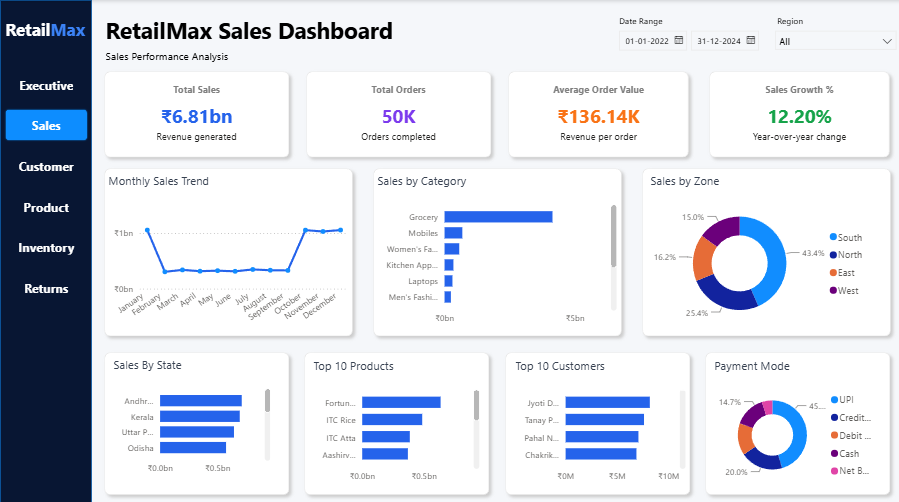

What the dashboard file says about the page in this screenshot:
{"tool":"powerbi","page":{"name":"Sales Dashboard","canvas":[1280,720],"ordinal":1},"visuals":[{"type":"shape","box":[0,0,130,720],"z":0,"group":"g12"},{"type":"shape","box":[139,92,280,140],"z":0,"group":"g1"},{"type":"shape","box":[425,92,280,140],"z":0,"group":"g2"},{"type":"shape","box":[711,92,273.4,140],"z":0,"group":"g3"},{"type":"shape","box":[997,92,273.4,140],"z":0,"group":"g4"},{"type":"textbox","box":[160,176,144,64],"z":0},{"type":"shape","box":[139,230,370,256],"z":0,"group":"g5"},{"type":"shape","box":[520.5,230,370,256],"z":0,"group":"g6"},{"type":"shape","box":[902,230,370,256],"z":0,"group":"g7"},{"type":"shape","box":[423,491,280,220],"z":0,"group":"g10"},{"type":"shape","box":[707,491,280,220],"z":0,"group":"g9"},{"type":"shape","box":[991,491,280,220],"z":0,"group":"g8"},{"type":"textbox","box":[144,16,544,64],"z":1000},{"type":"cardVisual","title":"sales","fields":{"Data":["Measure.Total Revenue"]},"box":[159,127,240,70],"z":1000,"group":"g1"},{"type":"cardVisual","title":"sales","fields":{"Data":["Measure.Total Orders"]},"box":[445,127,240,70],"z":1000,"group":"g2"},{"type":"cardVisual","title":"sales","fields":{"Data":["Measure.Average Order Value"]},"box":[730.5,127,234.4,70],"z":1000,"group":"g3"},{"type":"cardVisual","title":"sales","fields":{"Data":["Measure.Profit Margin %"]},"box":[1016.5,127,234.4,70],"z":1000,"group":"g4"},{"type":"lineChart","title":"Monthly Sales Trend","fields":{"Category":["dim_date.month_name"],"Y":["Measure.Total Revenue"]},"box":[149.6,246,348.9,224],"z":1000,"group":"g5"},{"type":"clusteredBarChart","title":"Sales by Category","fields":{"Category":["dim_category.category_name"],"Y":["Measure.Total Revenue"]},"box":[531.1,246,348.9,224],"z":1000,"group":"g6"},{"type":"barChart","title":"Top 10 Products","fields":{"Category":["dim_product.product_name"],"Y":["Measure.Total Revenue"]},"box":[440.5,507.9,245,186.2],"z":1000,"group":"g10"},{"type":"barChart","title":"Top 10 Customers","fields":{"Y":["Measure.Total Revenue"],"Category":["dim_customer.Customer Name"]},"box":[724.9,507.9,250.9,186.2],"z":1000,"group":"g9"},{"type":"donutChart","title":"Payment Mode","fields":{"Y":["Measure.Total Revenue"],"Category":["fact_sales.payment_mode"]},"box":[1008.5,507.9,245,186.2],"z":1000,"group":"g8"},{"type":"textbox","box":[144,64,288,80],"z":2000},{"type":"textbox","box":[159,112.8,240,35],"z":2000,"group":"g1"},{"type":"textbox","box":[445,112.8,240,35],"z":2000,"group":"g2"},{"type":"textbox","box":[730.5,112.8,234.4,35],"z":2000,"group":"g3"},{"type":"textbox","box":[1016.5,112.8,234.4,35],"z":2000,"group":"g4"},{"type":"slicer","fields":{"Values":["dim_date.full_date"]},"box":[864,15,224,96],"z":3000},{"type":"textbox","box":[159,179.5,240,35],"z":3000,"group":"g1"},{"type":"textbox","box":[445,179.5,240,35],"z":3000,"group":"g2"},{"type":"textbox","box":[730.5,179.5,234.4,35],"z":3000,"group":"g3"},{"type":"textbox","box":[1016.5,179.5,234.4,35],"z":3000,"group":"g4"},{"type":"slicer","fields":{"Values":["dim_region.region_name"]},"box":[1088,15,192,80],"z":4000},{"type":"group","id":"g1","title":"Group 2","box":[139,92,280,140],"z":5000},{"type":"group","id":"g2","title":"Group 2","box":[425,92,280,140],"z":6000},{"type":"group","id":"g3","title":"Group 2","box":[711,92,280,144],"z":7000},{"type":"group","id":"g4","title":"Group 2","box":[997,92,280,144],"z":8000},{"type":"group","id":"g5","title":"Group 1","box":[139,230,370,256],"z":9000},{"type":"group","id":"g6","title":"Group 3","box":[520.5,230,370,256],"z":10000},{"type":"group","id":"g7","title":"Group 4","box":[902,230,370,256],"z":11000},{"type":"group","id":"g8","title":"Group 5","box":[991,491,280,220],"z":12000},{"type":"group","id":"g9","title":"Group 6","box":[707,491,280,220],"z":13000},{"type":"group","id":"g10","title":"Group 7","box":[423,491,280,220],"z":14000},{"type":"group","id":"g11","title":"Group 8","box":[139,491,280,220],"z":15000},{"type":"group","id":"g12","title":"Group 2","box":[0,0,130,720],"z":16000},{"type":"actionButton","box":[5,96,120,48],"z":18000,"group":"g12"},{"type":"textbox","box":[0,20,128,48],"z":19000,"group":"g12"},{"type":"actionButton","box":[5,153.6,120,48],"z":20000,"group":"g12"},{"type":"actionButton","box":[5,211.2,120,48],"z":21000,"group":"g12"},{"type":"actionButton","box":[5,268.8,120,48],"z":22000,"group":"g12"},{"type":"actionButton","box":[5,326.4,120,48],"z":23000,"group":"g12"},{"type":"actionButton","box":[5,384,120,48],"z":24000,"group":"g12"},{"type":"shape","box":[139,491,280,220],"z":25013,"group":"g11"},{"type":"donutChart","title":"Sales by Zone","fields":{"Y":["Measure.Total Revenue"],"Category":["dim_region.zone_name"]},"box":[917.2,246,319.6,224],"z":25014,"group":"g7"},{"type":"clusteredBarChart","title":"Sales By State","fields":{"Y":["Measure.Total Revenue"],"Category":["dim_region.region_name"]},"box":[155.6,507,232.3,176],"z":25019,"group":"g11"}]}

Visuals, with their boxes on the page's 1280x720 design canvas (x1, y1, x2, y2). These are canvas units, not pixel positions in the 899x502 screenshot, which may show the page scaled, cropped or inside an application window:
shape: select_region(0, 0, 130, 720)
shape: select_region(139, 92, 419, 232)
shape: select_region(425, 92, 705, 232)
shape: select_region(711, 92, 984, 232)
shape: select_region(997, 92, 1270, 232)
textbox: select_region(160, 176, 304, 240)
shape: select_region(139, 230, 509, 486)
shape: select_region(520, 230, 890, 486)
shape: select_region(902, 230, 1272, 486)
shape: select_region(423, 491, 703, 711)
shape: select_region(707, 491, 987, 711)
shape: select_region(991, 491, 1271, 711)
textbox: select_region(144, 16, 688, 80)
"sales" cardVisual: select_region(159, 127, 399, 197)
"sales" cardVisual: select_region(445, 127, 685, 197)
"sales" cardVisual: select_region(730, 127, 965, 197)
"sales" cardVisual: select_region(1016, 127, 1251, 197)
"Monthly Sales Trend" lineChart: select_region(150, 246, 498, 470)
"Sales by Category" clusteredBarChart: select_region(531, 246, 880, 470)
"Top 10 Products" barChart: select_region(440, 508, 686, 694)
"Top 10 Customers" barChart: select_region(725, 508, 976, 694)
"Payment Mode" donutChart: select_region(1008, 508, 1254, 694)
textbox: select_region(144, 64, 432, 144)
textbox: select_region(159, 113, 399, 148)
textbox: select_region(445, 113, 685, 148)
textbox: select_region(730, 113, 965, 148)
textbox: select_region(1016, 113, 1251, 148)
slicer - dim_date.full_date: select_region(864, 15, 1088, 111)
textbox: select_region(159, 180, 399, 214)
textbox: select_region(445, 180, 685, 214)
textbox: select_region(730, 180, 965, 214)
textbox: select_region(1016, 180, 1251, 214)
slicer - dim_region.region_name: select_region(1088, 15, 1280, 95)
"Group 2" group: select_region(139, 92, 419, 232)
"Group 2" group: select_region(425, 92, 705, 232)
"Group 2" group: select_region(711, 92, 991, 236)
"Group 2" group: select_region(997, 92, 1277, 236)
"Group 1" group: select_region(139, 230, 509, 486)
"Group 3" group: select_region(520, 230, 890, 486)
"Group 4" group: select_region(902, 230, 1272, 486)
"Group 5" group: select_region(991, 491, 1271, 711)
"Group 6" group: select_region(707, 491, 987, 711)
"Group 7" group: select_region(423, 491, 703, 711)
"Group 8" group: select_region(139, 491, 419, 711)
"Group 2" group: select_region(0, 0, 130, 720)
actionButton: select_region(5, 96, 125, 144)
textbox: select_region(0, 20, 128, 68)
actionButton: select_region(5, 154, 125, 202)
actionButton: select_region(5, 211, 125, 259)
actionButton: select_region(5, 269, 125, 317)
actionButton: select_region(5, 326, 125, 374)
actionButton: select_region(5, 384, 125, 432)
shape: select_region(139, 491, 419, 711)
"Sales by Zone" donutChart: select_region(917, 246, 1237, 470)
"Sales By State" clusteredBarChart: select_region(156, 507, 388, 683)
